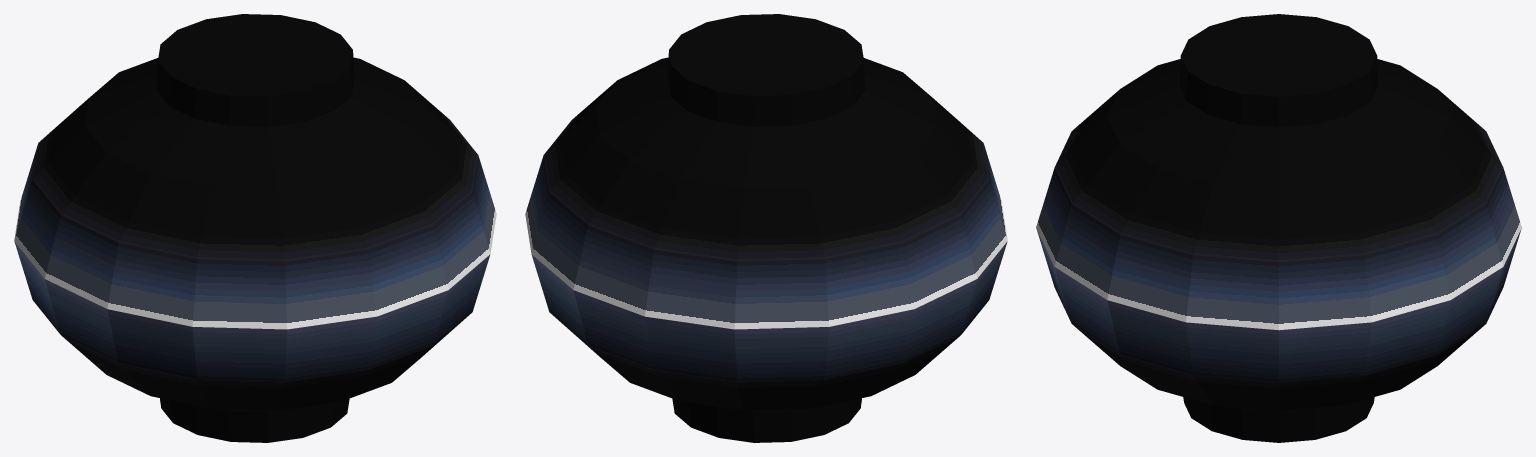
File: 0284_denglong01.glb
The picture shows the model from 3 angles, left to right: view 1: azimuth 30°, elevation 25°; view 2: azimuth 150°, elevation 25°; view 3: azimuth 270°, elevation 25°; orthographic projection.
Bounding box in the file's own units: 2.2 × 1.74 × 2.2.
1 material, 1 textured.
